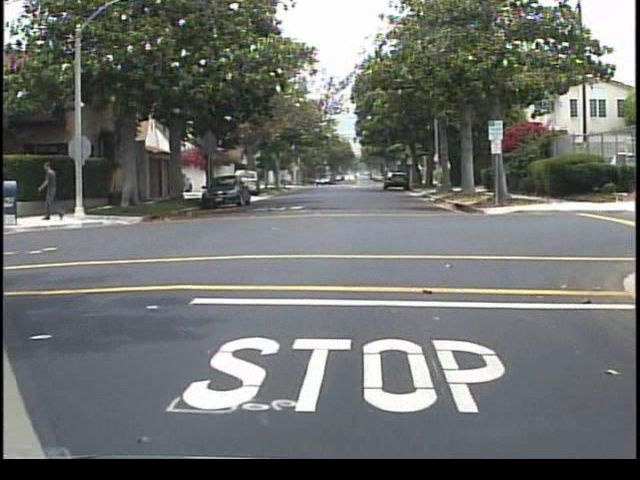person: (37, 158, 68, 226)
